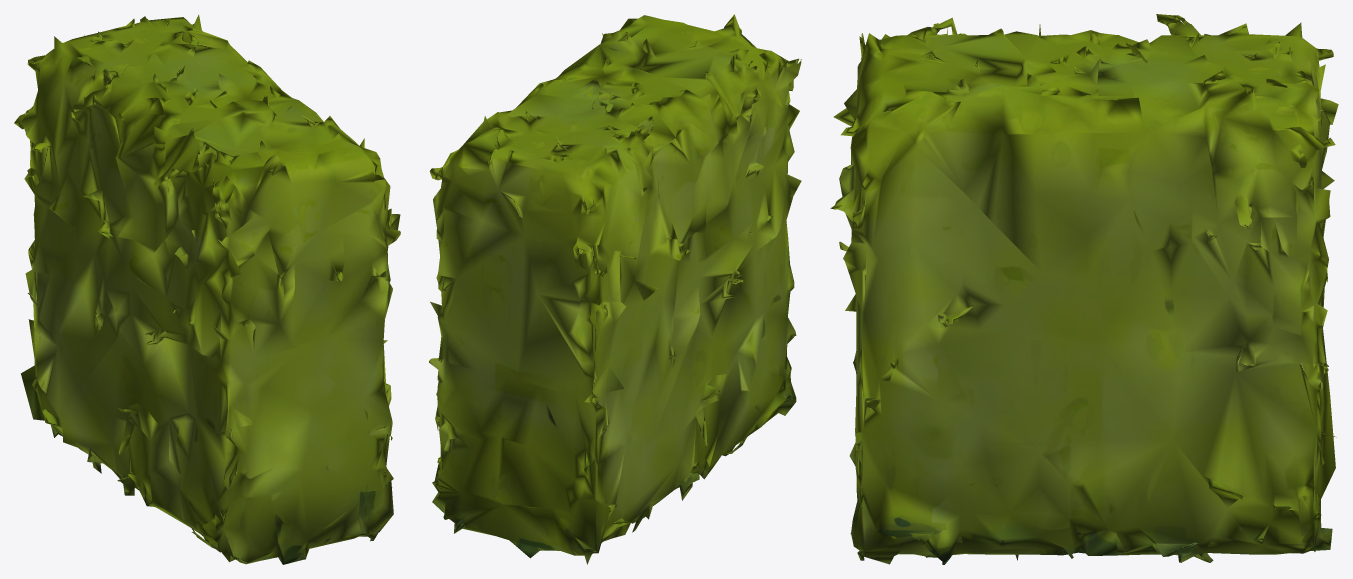
Rendered from hedge_straight.glb.
The picture shows the model from 3 angles, left to right: view 1: azimuth 30°, elevation 25°; view 2: azimuth 150°, elevation 25°; view 3: azimuth 270°, elevation 25°; orthographic projection. The views are drawn at different scales.
Visible parts, largest first — view 1: tripo_node_daf84054-f457-49f0-a7a3-02db4ade4f0f; view 2: tripo_node_daf84054-f457-49f0-a7a3-02db4ade4f0f; view 3: tripo_node_daf84054-f457-49f0-a7a3-02db4ade4f0f.
Part boxes in pixels (x1,y1,x2,y2): tripo_node_daf84054-f457-49f0-a7a3-02db4ade4f0f: (14, 14, 400, 564); tripo_node_daf84054-f457-49f0-a7a3-02db4ade4f0f: (429, 14, 801, 564); tripo_node_daf84054-f457-49f0-a7a3-02db4ade4f0f: (830, 14, 1338, 564).
Bounding box in the file's own units: 0.5053 × 0.9954 × 0.9333.
Materials: 1 (1 with a texture image).
